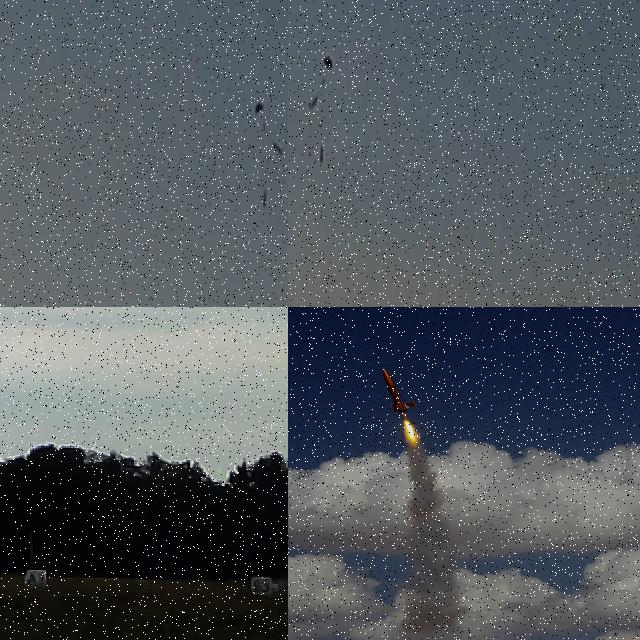Rocket: (382, 368, 417, 414), (320, 143, 324, 162), (263, 190, 267, 206)
